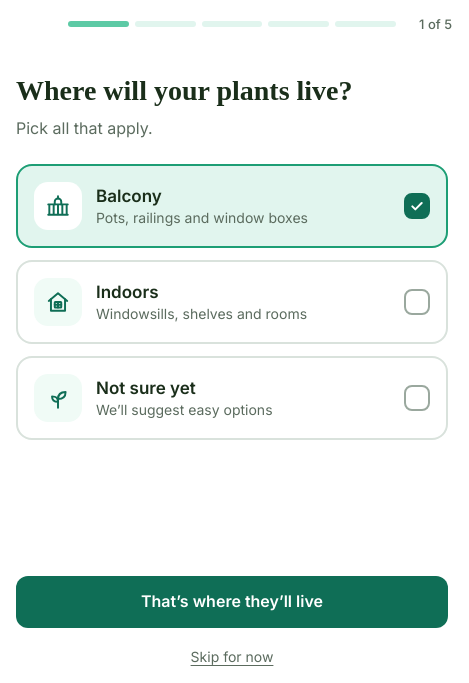
Test: Step 2 — where will your plants live? › signed-in users get no back button and continue to step 3
Expected: the heading "Where will your plants live?" is shown, 16,75 -> 352,106
Click the button "That’s where they’ll live" at coordinates (232, 602), box 16,576 -> 448,628
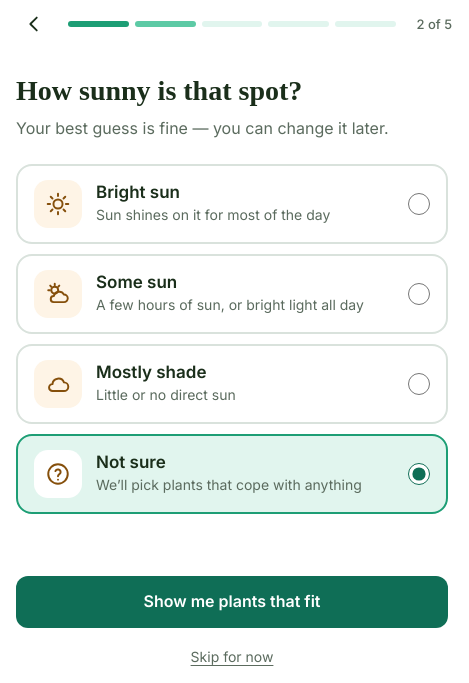
Result: the heading "How sunny is that spot?" is shown at 16,75 -> 302,106
